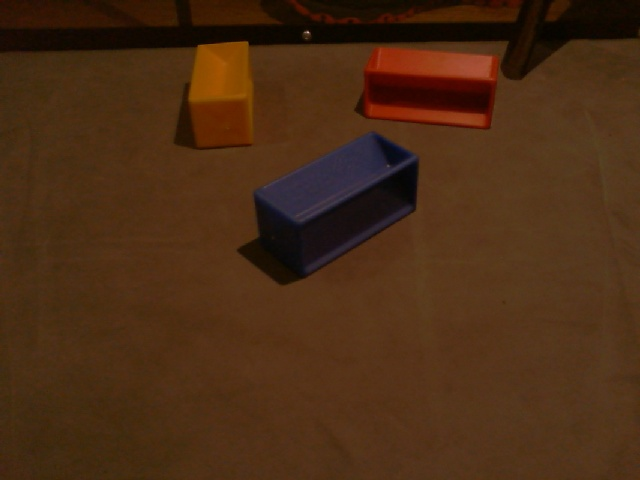BlueSample: (252, 130, 418, 279)
RedSample: (360, 45, 500, 135)
YellowSample: (186, 38, 255, 152)
